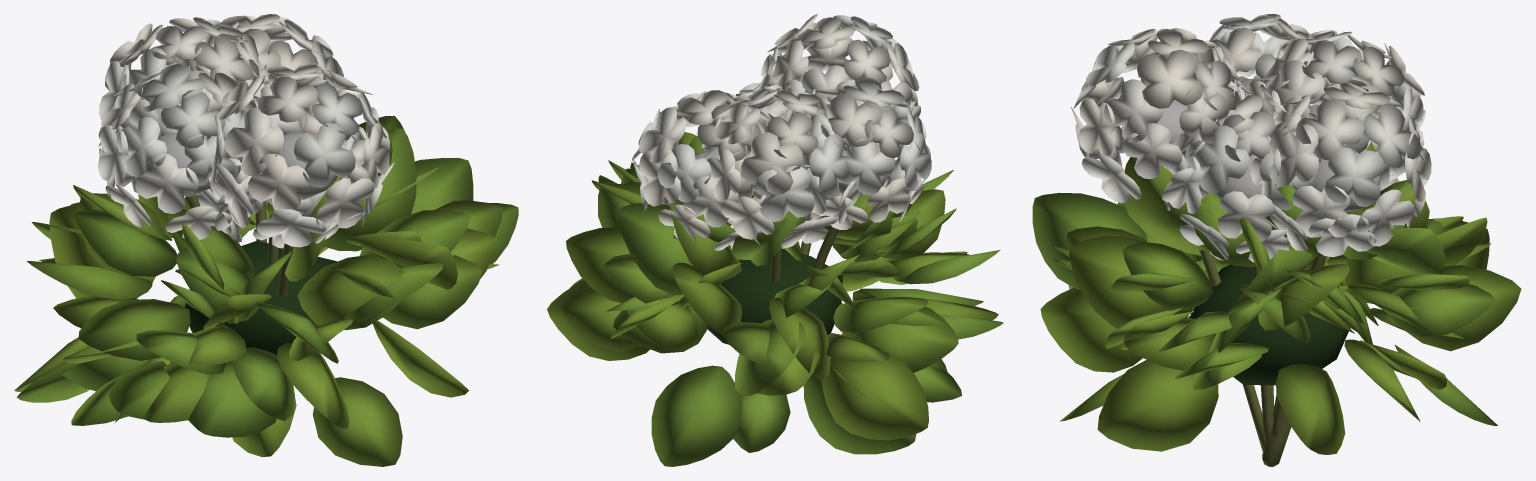
The model's file is potfill_hydrangea_white.glb.
3 renders of one model, left to right at view 1: azimuth 30°, elevation 25°; view 2: azimuth 150°, elevation 25°; view 3: azimuth 270°, elevation 25°, orthographic. The views are drawn at different scales.
Visible parts, largest first — view 1: Sammel Pflanze, Sammel Blatt, Sammel Putz; view 2: Sammel Pflanze, Sammel Blatt, Sammel Putz; view 3: Sammel Pflanze, Sammel Blatt, Sammel Putz.
Boxes of the visible parts, x1,y1,x2,y2 form: Sammel Pflanze: [14, 14, 518, 466]; Sammel Blatt: [185, 240, 336, 355]; Sammel Putz: [185, 194, 300, 296]; Sammel Pflanze: [547, 14, 1003, 466]; Sammel Blatt: [707, 248, 842, 344]; Sammel Putz: [726, 219, 838, 282]; Sammel Pflanze: [1032, 14, 1521, 454]; Sammel Blatt: [1189, 264, 1349, 385]; Sammel Putz: [1199, 250, 1326, 466].
Size of the model in its own units: 0.5333 by 0.4913 by 0.521.
